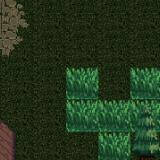Obstacle: (130, 132, 160, 160)
Slow: (66, 68, 99, 132), (130, 67, 160, 132), (99, 100, 130, 160)
